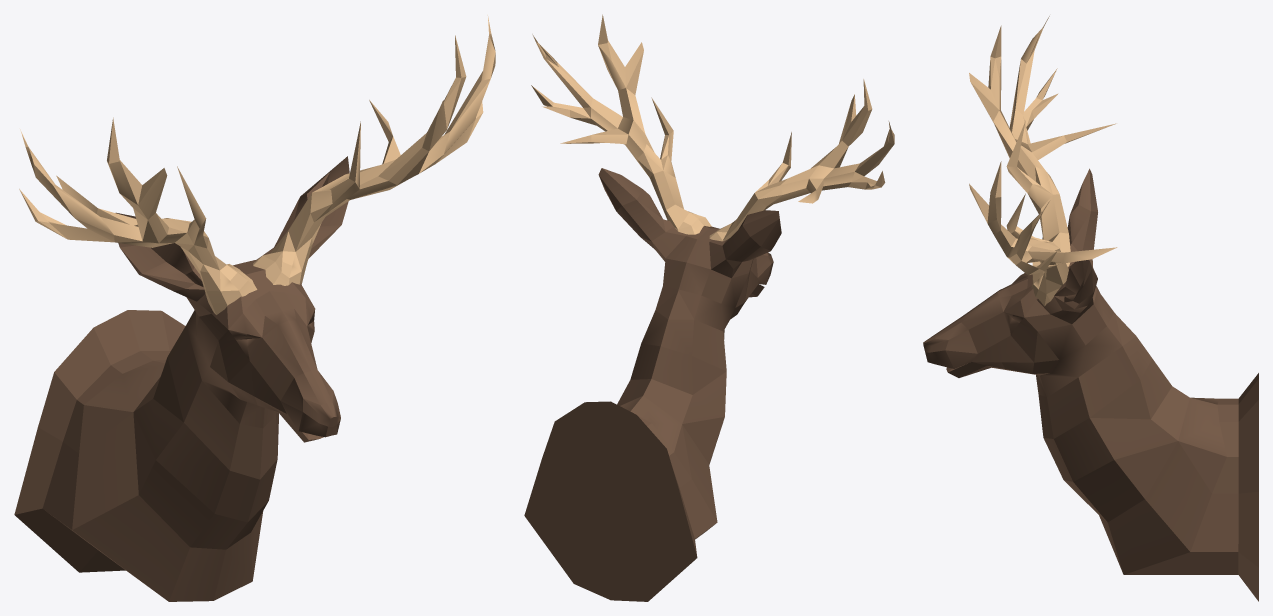
The model's file is dear.fbx.
3 renders of one model, left to right at view 1: azimuth 30°, elevation 25°; view 2: azimuth 150°, elevation 25°; view 3: azimuth 270°, elevation 25°, orthographic. The views are drawn at different scales.
Visible parts, largest first — view 1: polySurface10; view 2: polySurface10; view 3: polySurface10.
Boxes of the visible parts, left/top/right/bottom form: polySurface10: left=14, top=15, right=495, bottom=601; polySurface10: left=524, top=14, right=894, bottom=601; polySurface10: left=923, top=16, right=1258, bottom=601.
Bounding box in the file's own units: 12.97 × 16.18 × 9.9.
